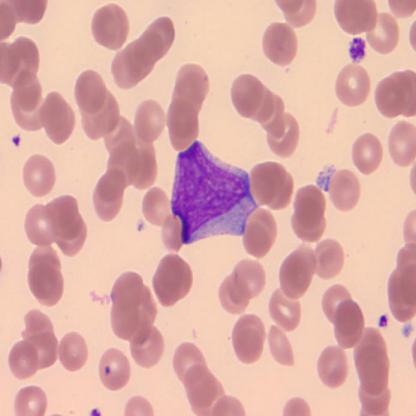Myelocyte: (171, 140, 262, 243)
